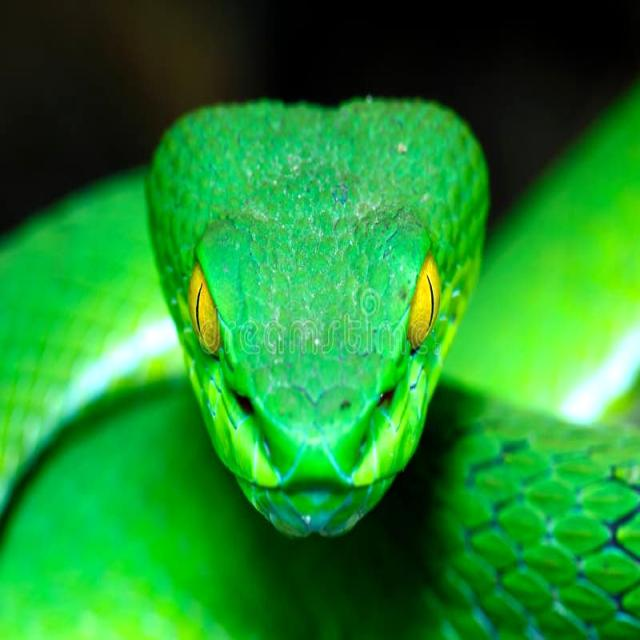Trimeresurus macrops: (0, 89, 639, 637)
snake: (0, 89, 639, 637)
